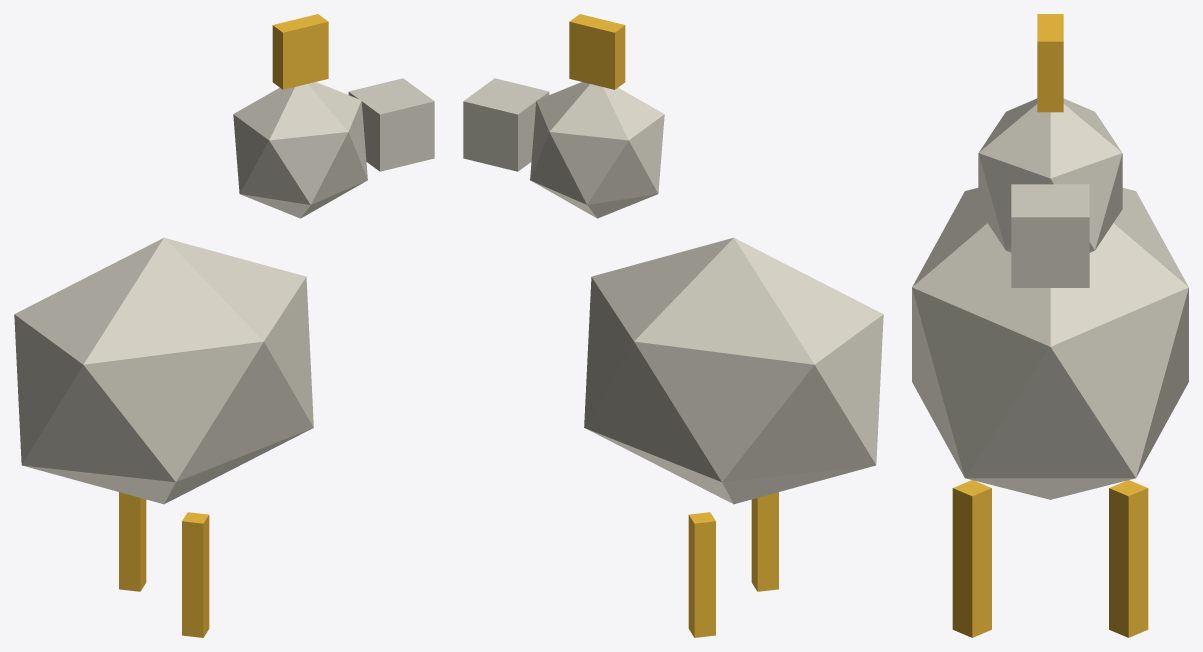
Rendered from Mob_OR_DicebeakHen_00.glb.
3 views of the same model, side by side, from view 1: azimuth 30°, elevation 25°; view 2: azimuth 150°, elevation 25°; view 3: azimuth 270°, elevation 25° (orthographic). The views are drawn at different scales.
Parts seen in each view (by area): view 1: Mob_OR_DicebeakHen_00; view 2: Mob_OR_DicebeakHen_00; view 3: Mob_OR_DicebeakHen_00.
Boxes of the visible parts, x1,y1,x2,y2 form: Mob_OR_DicebeakHen_00: [14, 14, 434, 637]; Mob_OR_DicebeakHen_00: [463, 14, 883, 637]; Mob_OR_DicebeakHen_00: [912, 14, 1188, 637].
Bounding box in the file's own units: 0.4365 × 0.58 × 0.2127.
